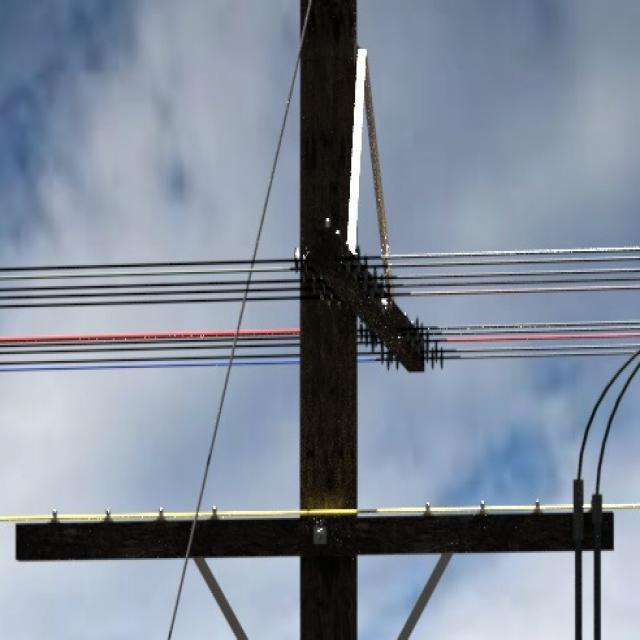crossarm: (13, 494, 607, 560), (307, 234, 441, 375)
pole: (300, 0, 358, 640)
